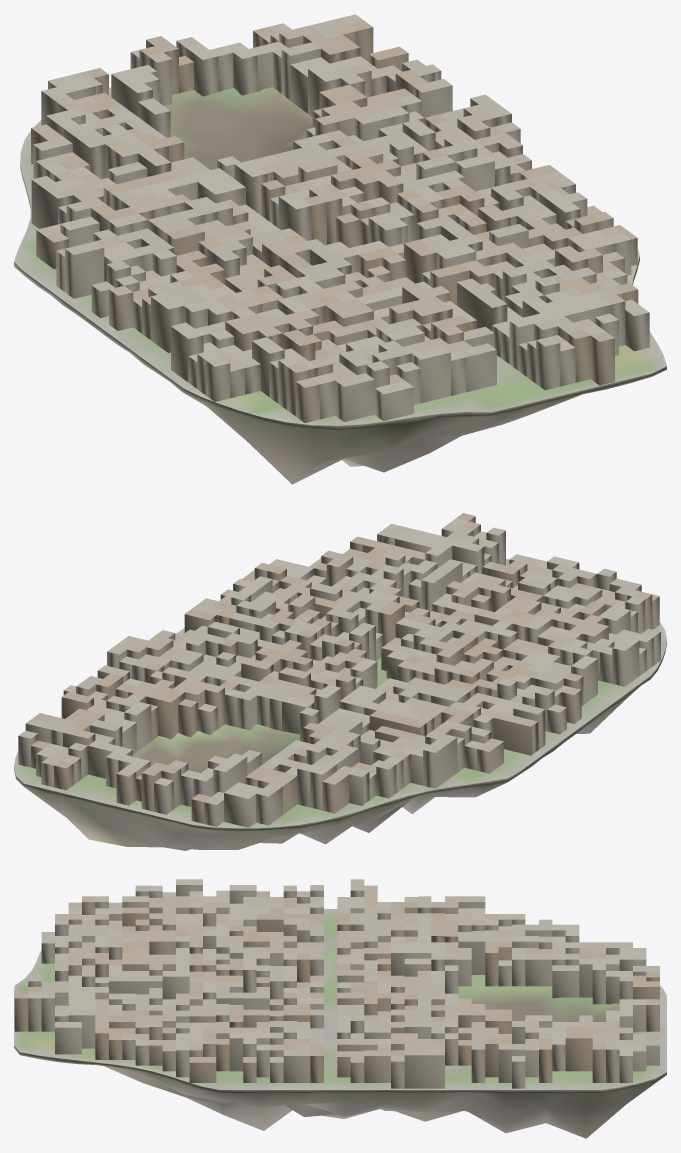
File: SKY-036.lod1.glb
3 views of the same model, one above another, from view 1: azimuth 30°, elevation 25°; view 2: azimuth 150°, elevation 25°; view 3: azimuth 270°, elevation 25° (orthographic). The views are drawn at different scales.
Visible parts, largest first — view 1: warren_hull, deck, rock; view 2: warren_hull, deck, rock; view 3: warren_hull, rock, deck.
Boxes of the visible parts, box(x1,y1,x2,y2) form: warren_hull: box(31, 14, 649, 422); deck: box(14, 87, 666, 425); rock: box(14, 164, 666, 484); warren_hull: box(18, 513, 660, 827); deck: box(14, 559, 666, 828); rock: box(14, 641, 666, 850); warren_hull: box(14, 879, 659, 1088); rock: box(14, 1046, 666, 1138); deck: box(14, 909, 666, 1089).
Size of the model in its own units: 191 by 83.91 by 292.
